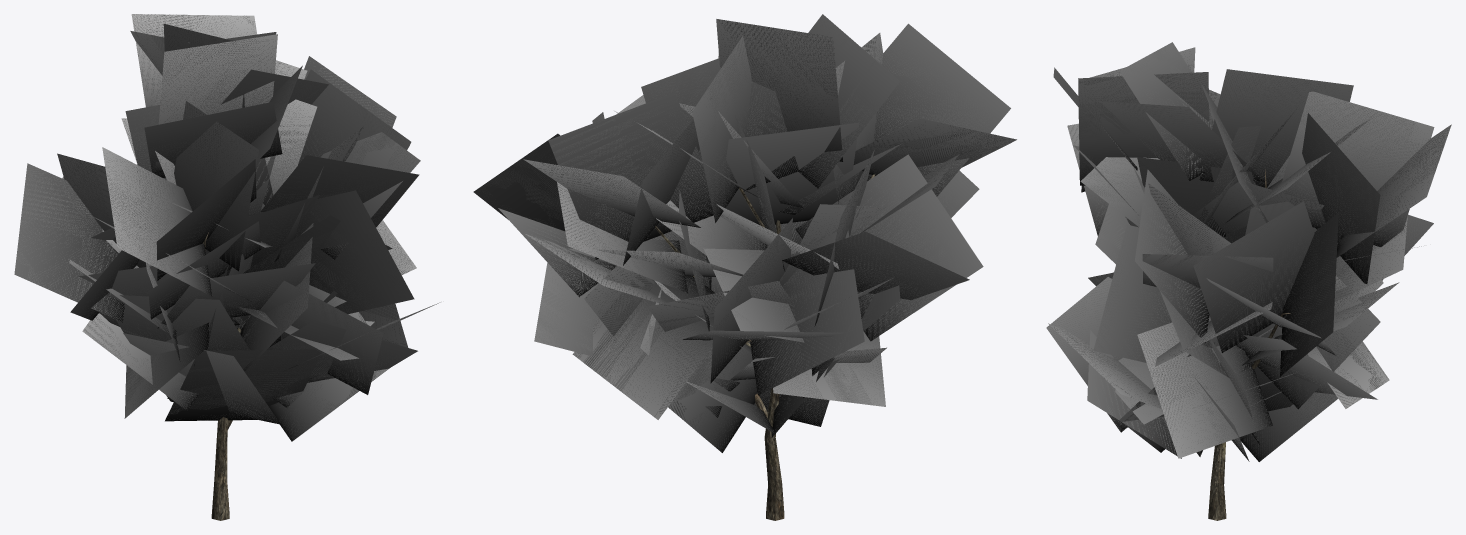
Rendered from Tree2.fbx.
3 renders of one model, left to right at view 1: azimuth 30°, elevation 25°; view 2: azimuth 150°, elevation 25°; view 3: azimuth 270°, elevation 25°, orthographic. The views are drawn at different scales.
Parts seen in each view (by area): view 1: tree2_leafs, tree2_leafs_flip, tree2_trunk; view 2: tree2_leafs, tree2_leafs_flip, tree2_trunk; view 3: tree2_leafs, tree2_leafs_flip, tree2_trunk.
Boxes of the visible parts, x1,y1,x2,y2 form: tree2_leafs: (14,14,440,441); tree2_leafs_flip: (17,14,429,440); tree2_trunk: (203,232,241,520); tree2_leafs: (473,14,1016,452); tree2_leafs_flip: (474,16,1013,451); tree2_trunk: (655,174,875,520); tree2_leafs: (1046,42,1451,461); tree2_leafs_flip: (1047,43,1449,460); tree2_trunk: (1208,169,1290,520).
Bounding box in the file's own units: 11.37 × 12.04 × 9.31.
